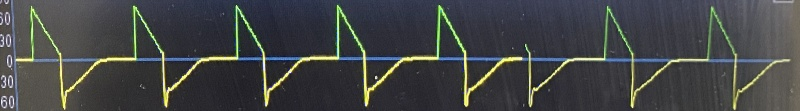normal_flow: (16, 0, 800, 111)
